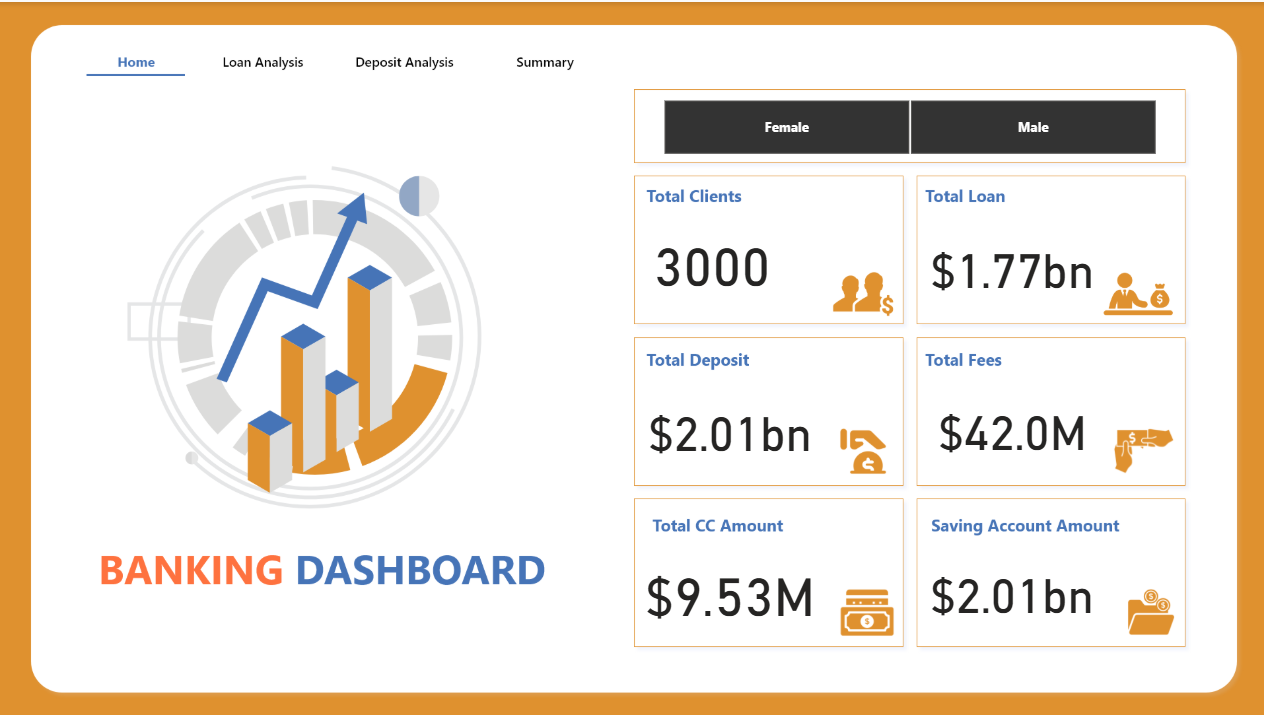

The page's visual inventory and layout, read from the dashboard file:
{"tool":"powerbi","page":{"name":"Home","canvas":[1280,720],"ordinal":0},"visuals":[{"type":"card","fields":{"Values":["CountNonNull(Banking.Name)"]},"box":[645.2,202.8,147.5,115.2],"z":0},{"type":"card","fields":{"Values":["Banking.Total Loan"]},"box":[930.1,213.8,183.2,104.1],"z":1000},{"type":"card","fields":{"Values":["Banking.Total Deposit"]},"box":[645.2,376.4,182.8,106],"z":2000},{"type":"slicer","fields":{"Values":["Banking.GenderId"]},"box":[645.2,92.2,545.4,67.6],"z":3000},{"type":"card","fields":{"Values":["Banking.Total Fees"]},"box":[930.1,376.2,183.2,106.9],"z":4000},{"type":"card","fields":{"Values":["Banking.Total Credit Card Amount"]},"box":[645.2,540.8,182.8,106],"z":5000},{"type":"card","fields":{"Values":["Banking.Total Deposit"]},"box":[929.5,540.8,182.8,106],"z":6000},{"type":"actionButton","box":[87.6,36.9,99.9,39.9],"z":7000},{"type":"actionButton","box":[204.3,36.9,122.9,39.9],"z":8000},{"type":"actionButton","box":[345.7,36.9,122.9,39.9],"z":9000},{"type":"actionButton","box":[485.5,36.9,122.9,39.9],"z":10000}]}

Visuals, with their boxes in screenshot pixels (x1, y1, x2, y2), scaled from the page's 1280x720 canvas onto the 1264x715 screenshot:
card - CountNonNull(Banking.Name): box=[637, 201, 783, 316]
card - Banking.Total Loan: box=[918, 212, 1099, 316]
card - Banking.Total Deposit: box=[637, 374, 818, 479]
slicer - Banking.GenderId: box=[637, 92, 1176, 159]
card - Banking.Total Fees: box=[918, 374, 1099, 480]
card - Banking.Total Credit Card Amount: box=[637, 537, 818, 642]
card - Banking.Total Deposit: box=[918, 537, 1098, 642]
actionButton: box=[87, 37, 185, 76]
actionButton: box=[202, 37, 323, 76]
actionButton: box=[341, 37, 463, 76]
actionButton: box=[479, 37, 601, 76]
